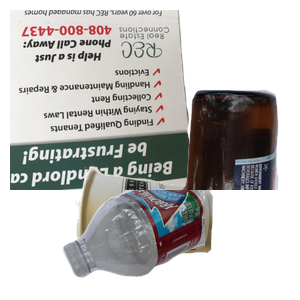glass: (87, 87, 300, 267)
paper: (10, 10, 201, 190)
plastic: (60, 190, 300, 280)
trash: (73, 164, 278, 300)
